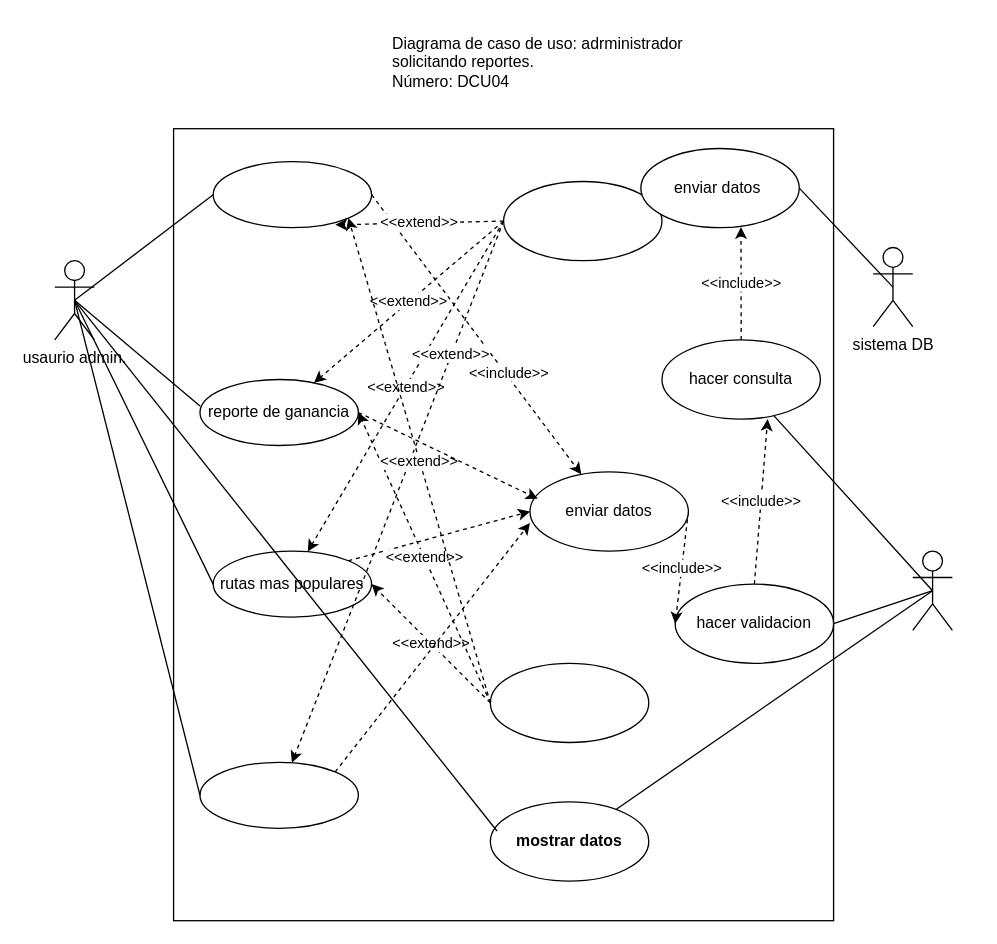
Some shapes in this 997 by 944 pixel diagram are drawn without their labels. Each missing label, with the box of its shape:
aplicar filtro: (489, 662, 649, 742)
ingresar datos: (502, 180, 662, 261)
reporte de cliente: (199, 761, 358, 828)
reporte de rutas: (212, 160, 372, 228)
sistema API: (911, 550, 952, 630)
